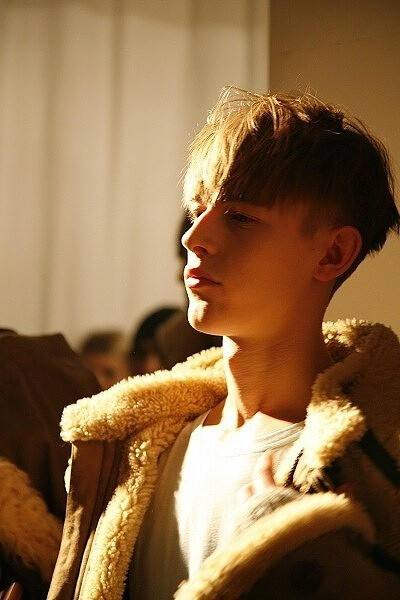person: (157, 92, 356, 573)
